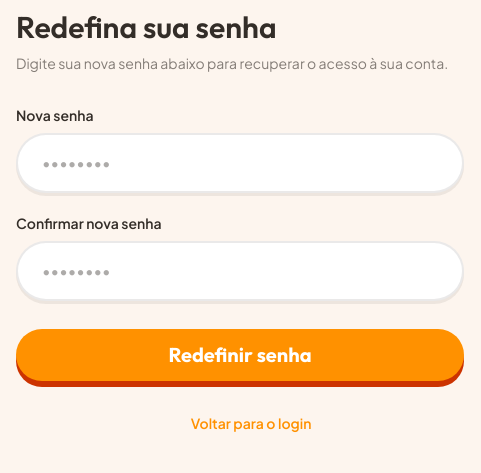
Test: ResetPasswordForm › should display field errors when validation fails
This screenshot has width=481, height=473.
Type "NewPassword1" into the password field labelled "Nova senha" at (224, 163), box left=42, top=151, right=406, bottom=175
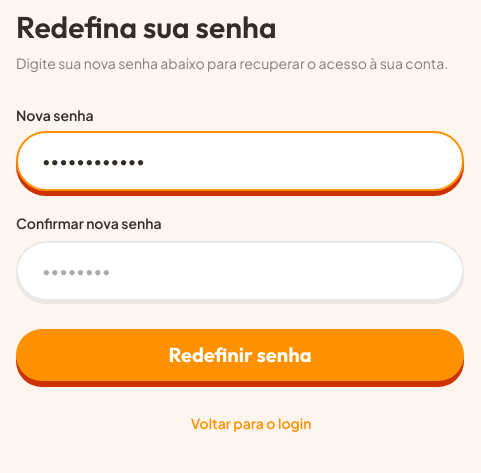
Type "Different1" into the password field labelled "Confirmar nova senha" at (224, 271), box left=42, top=259, right=406, bottom=283
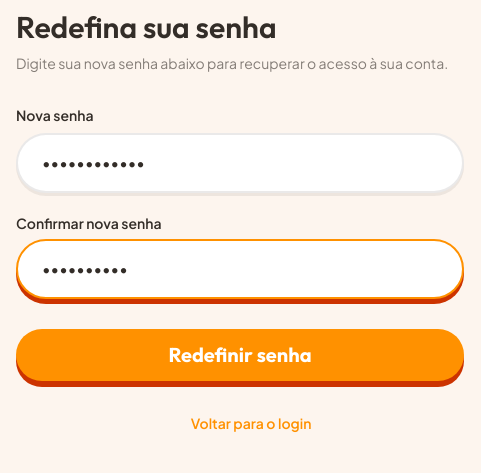
Click the button "Redefinir senha" at (240, 355), box left=16, top=329, right=464, bottom=381
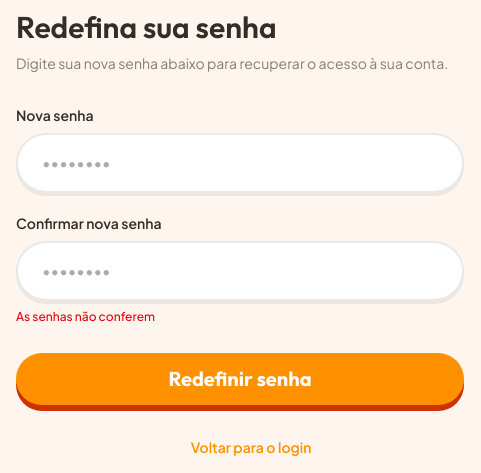
Expected: the text "As senhas não conferem" is shown, left=16, top=309, right=155, bottom=324
